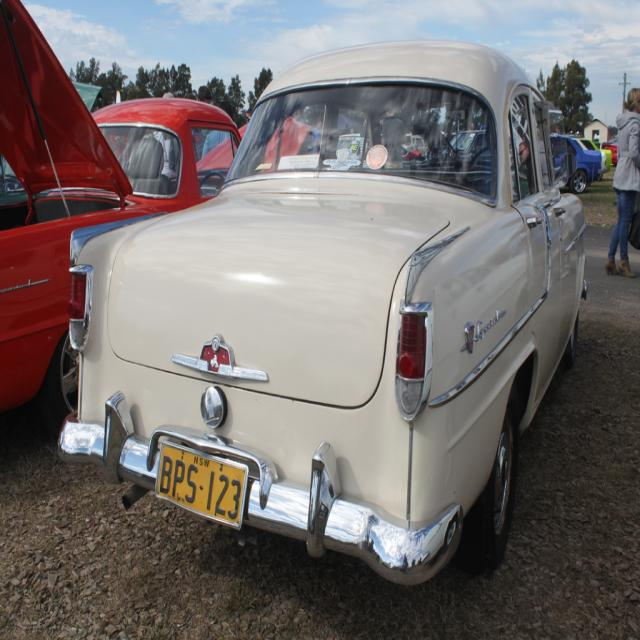car: (59, 45, 588, 587)
